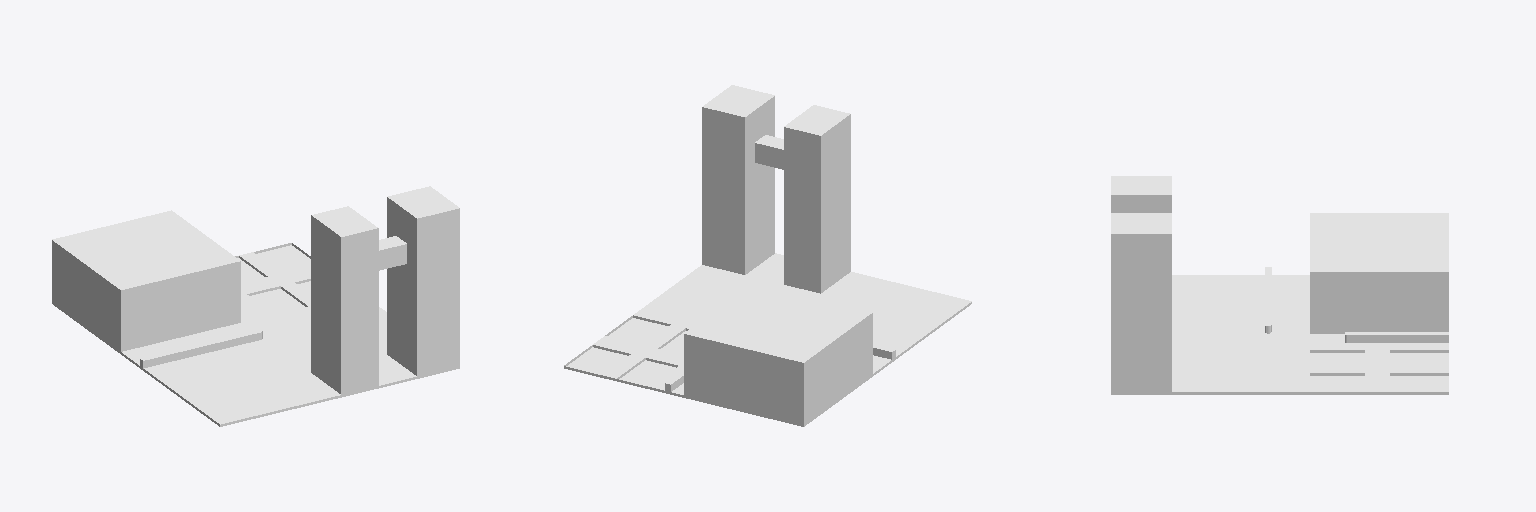
Rendered from Prorotype.obj.
3 renders of one model, left to right at view 1: azimuth 30°, elevation 25°; view 2: azimuth 150°, elevation 25°; view 3: azimuth 270°, elevation 25°, orthographic.
Parts seen in each view (by area): view 1: Prorotype; view 2: Prorotype; view 3: Prorotype.
Part boxes in pixels (x1,y1,x2,y2): Prorotype: (52,186,459,426); Prorotype: (564,85,971,426); Prorotype: (1111,176,1448,394).
Size of the model in its own units: 100 by 63.75 by 122.